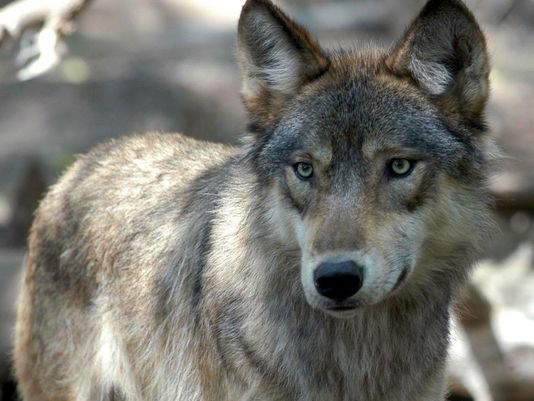wolf: (25, 15, 510, 401)
